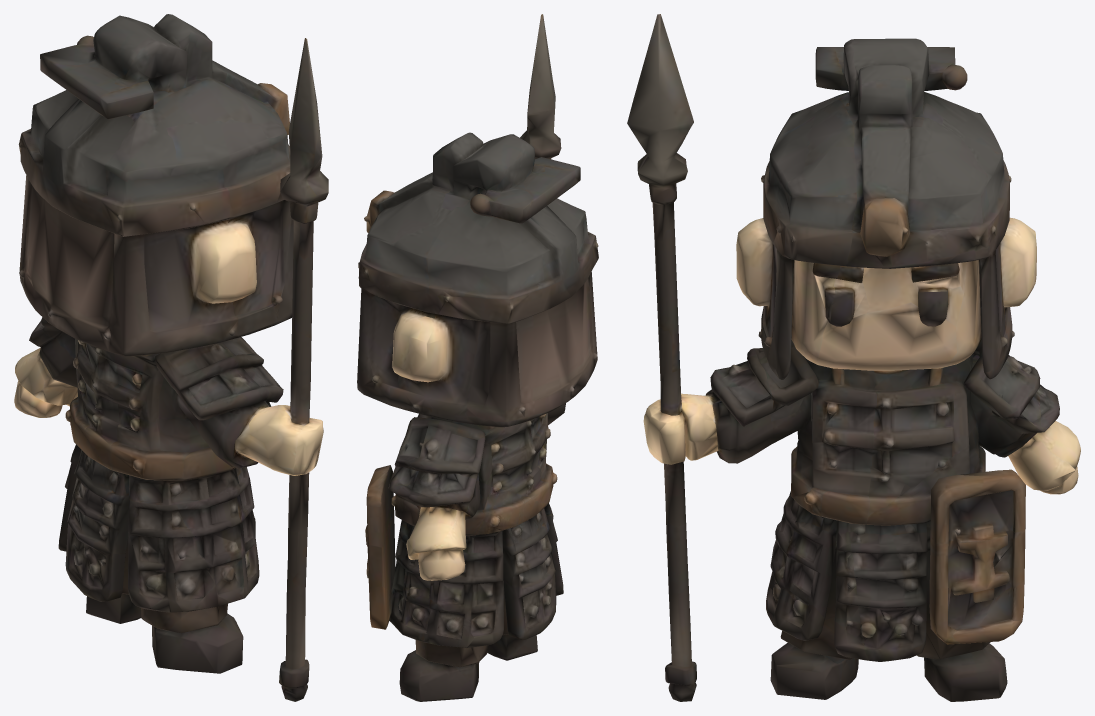
Rendered from soldier.glb.
The picture shows the model from 3 angles, left to right: view 1: azimuth 30°, elevation 25°; view 2: azimuth 150°, elevation 25°; view 3: azimuth 270°, elevation 25°; orthographic projection. The views are drawn at different scales.
Visible parts, largest first — view 1: tripo_node_5a0ec53d-d586-45b5-8e3e-5e143707159e; view 2: tripo_node_5a0ec53d-d586-45b5-8e3e-5e143707159e; view 3: tripo_node_5a0ec53d-d586-45b5-8e3e-5e143707159e.
Part boxes in pixels (x1,y1,x2,y2): tripo_node_5a0ec53d-d586-45b5-8e3e-5e143707159e: (14, 14, 328, 701); tripo_node_5a0ec53d-d586-45b5-8e3e-5e143707159e: (357, 14, 598, 701); tripo_node_5a0ec53d-d586-45b5-8e3e-5e143707159e: (627, 14, 1080, 701).
Bounding box in the file's own units: 0.3644 × 0.9991 × 0.5976.
Materials: 1 (1 with a texture image).
